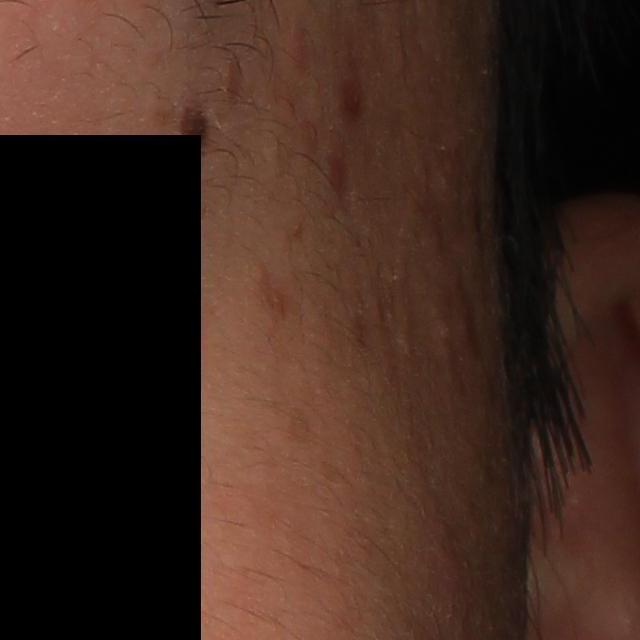melasma: (244, 258, 306, 329)
nevus: (175, 104, 215, 159)
